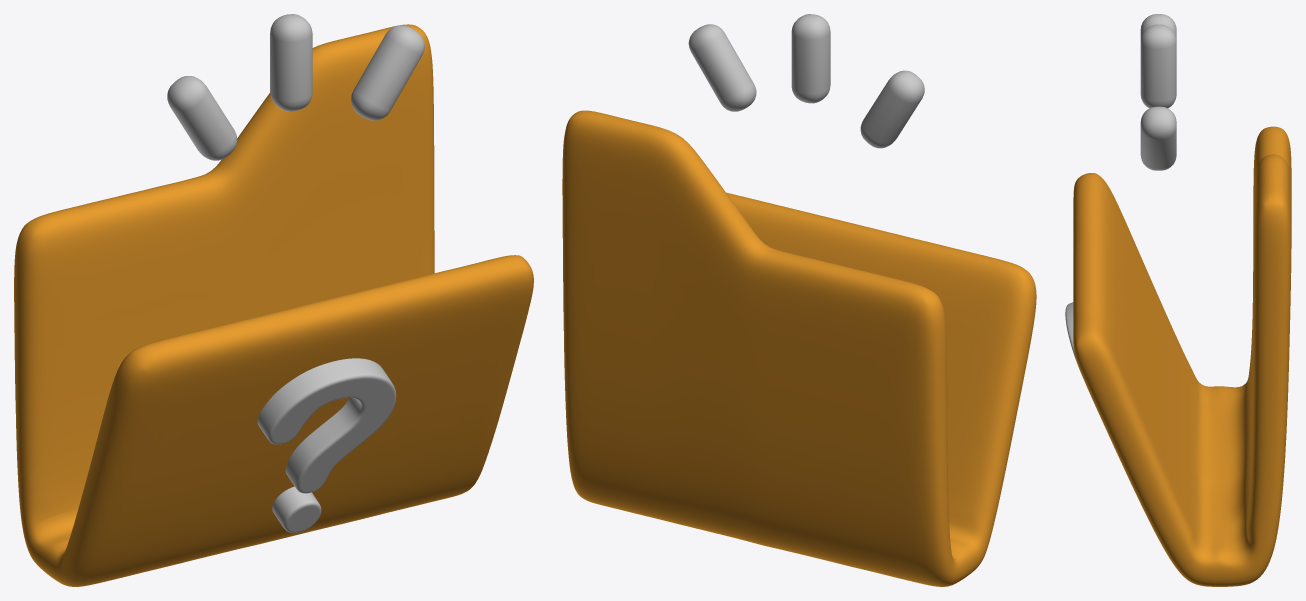
Rendered from empty-folder-animated-3d-icon-1603354968135.glb.
3 views of the same model, side by side, from view 1: azimuth 30°, elevation 25°; view 2: azimuth 150°, elevation 25°; view 3: azimuth 270°, elevation 25° (orthographic). The views are drawn at different scales.
Parts seen in each view (by area): view 1: Folder.010, Question Mark, Cube.002, Cube.001, Cube; view 2: Folder.010, Cube.002, Cube.001, Cube; view 3: Folder.010, Cube.001, Cube.002, Cube, Question Mark.
Part boxes in pixels (x1,y1,x2,y2): Folder.010: (14, 24, 533, 586); Question Mark: (257, 358, 396, 532); Cube.002: (351, 25, 424, 120); Cube.001: (270, 14, 312, 111); Cube: (167, 76, 237, 160); Folder.010: (562, 110, 1036, 586); Cube.002: (688, 24, 756, 111); Cube.001: (791, 14, 830, 103); Cube: (860, 70, 924, 148); Folder.010: (1073, 126, 1291, 586); Cube.001: (1140, 24, 1176, 108); Cube.002: (1140, 106, 1176, 170); Cube: (1140, 14, 1176, 38); Question Mark: (1065, 302, 1080, 372).
Size of the model in its own units: 1.89 by 2.37 by 1.02.
